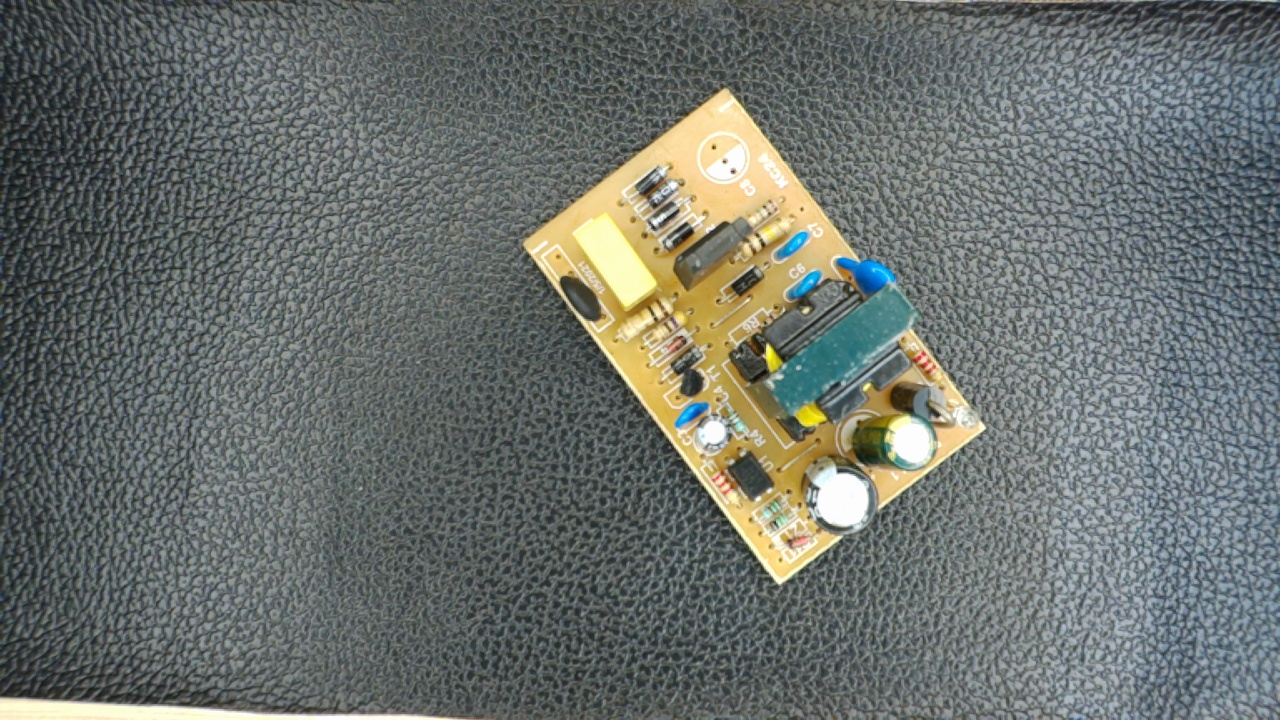fuse: (552, 264, 609, 326)
mov: (831, 245, 903, 300)
optocoupler: (722, 449, 780, 503)
